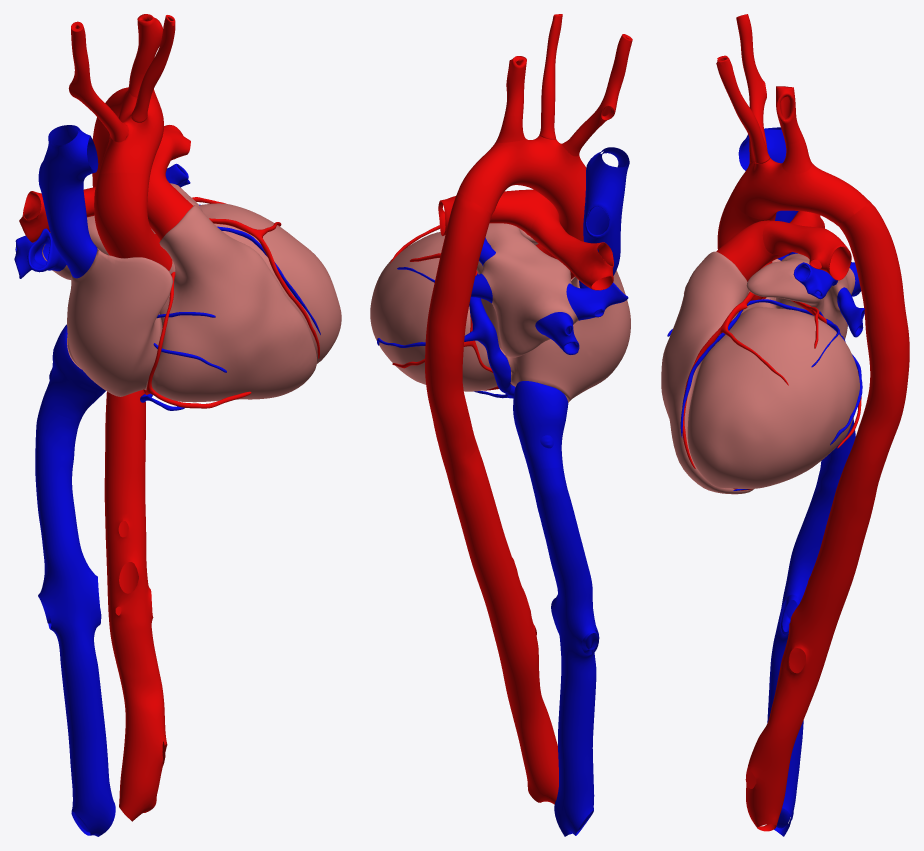
The model's file is VH_F_Heart.fbx.
3 views of the same model, side by side, from view 1: azimuth 30°, elevation 25°; view 2: azimuth 150°, elevation 25°; view 3: azimuth 270°, elevation 25° (orthographic). The views are drawn at different scales.
Visible parts, largest first — view 1: VH_F_right_ventricle, VH_F_inferior_vena_cava_b, VH_F_descending_aorta_b, VH_F_right_cardiac_atrium, VH_F_superior_vena_cava, VH_F_left_ventricle, VH_F_ascending_aorta, VH_F_aortic_arch, VH_F_inferior_vena_cava_a, VH_F_pulmonary_trunk, VH_F_brachiocephalic_artery_b, VH_F_pulmonary_artery_R (+7 smaller); view 2: VH_F_descending_aorta_b, VH_F_inferior_vena_cava_b, VH_F_descending_aorta_a, VH_F_left_cardiac_atrium, VH_F_left_ventricle, VH_F_right_cardiac_atrium, VH_F_aortic_arch, VH_F_inferior_vena_cava_a, VH_F_superior_vena_cava, VH_F_pulmonary_artery_R, VH_F_coronary_sinus, VH_F_brachiocephalic_artery_b (+8 smaller); view 3: VH_F_left_ventricle, VH_F_descending_aorta_b, VH_F_descending_aorta_a, VH_F_right_ventricle, VH_F_inferior_vena_cava_b, VH_F_aortic_arch, VH_F_left_cardiac_atrium, VH_F_pulmonary_artery_L, VH_F_pulmonary_trunk, VH_F_brachiocephalic_artery_b, VH_F_left_common_carotid_artery_b, VH_F_superior_vena_cava (+7 smaller).
Part boxes in pixels (x1,y1,x2,y2): VH_F_right_ventricle: [144, 205, 316, 402]; VH_F_inferior_vena_cava_b: [35, 400, 115, 836]; VH_F_descending_aorta_b: [104, 390, 167, 821]; VH_F_right_cardiac_atrium: [67, 248, 173, 396]; VH_F_superior_vena_cava: [38, 125, 98, 278]; VH_F_left_ventricle: [199, 203, 341, 363]; VH_F_ascending_aorta: [94, 172, 172, 270]; VH_F_aortic_arch: [98, 87, 163, 177]; VH_F_inferior_vena_cava_a: [42, 324, 105, 419]; VH_F_pulmonary_trunk: [147, 167, 193, 240]; VH_F_brachiocephalic_artery_b: [68, 21, 112, 122]; VH_F_pulmonary_artery_R: [19, 187, 95, 242]; VH_F_descending_aorta_b: [442, 445, 558, 804]; VH_F_inferior_vena_cava_b: [528, 466, 599, 836]; VH_F_descending_aorta_a: [425, 192, 491, 463]; VH_F_left_cardiac_atrium: [476, 223, 578, 357]; VH_F_left_ventricle: [370, 232, 505, 391]; VH_F_right_cardiac_atrium: [505, 270, 630, 402]; VH_F_aortic_arch: [458, 135, 586, 214]; VH_F_inferior_vena_cava_a: [513, 381, 568, 468]; VH_F_superior_vena_cava: [579, 147, 629, 288]; VH_F_pulmonary_artery_R: [531, 208, 613, 290]; VH_F_coronary_sinus: [469, 297, 515, 398]; VH_F_brachiocephalic_artery_b: [579, 34, 632, 138]; VH_F_left_ventricle: [687, 307, 859, 488]; VH_F_descending_aorta_b: [745, 461, 880, 831]; VH_F_descending_aorta_a: [836, 202, 909, 480]; VH_F_right_ventricle: [661, 251, 754, 494]; VH_F_inferior_vena_cava_b: [767, 433, 855, 836]; VH_F_aortic_arch: [733, 158, 869, 224]; VH_F_left_cardiac_atrium: [746, 253, 855, 339]; VH_F_pulmonary_artery_L: [762, 221, 851, 280]; VH_F_pulmonary_trunk: [716, 220, 791, 281]; VH_F_brachiocephalic_artery_b: [736, 14, 766, 130]; VH_F_left_common_carotid_artery_b: [716, 55, 763, 144]; VH_F_superior_vena_cava: [738, 127, 798, 260].
Bounding box in the file's own units: 15.76 × 45.19 × 12.68.
